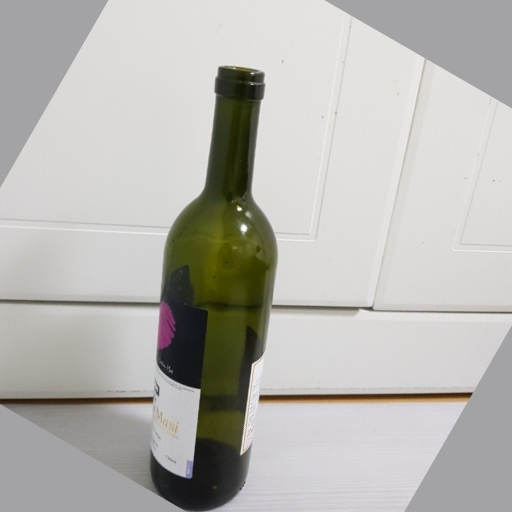Glass_2: (149, 64, 280, 512)
